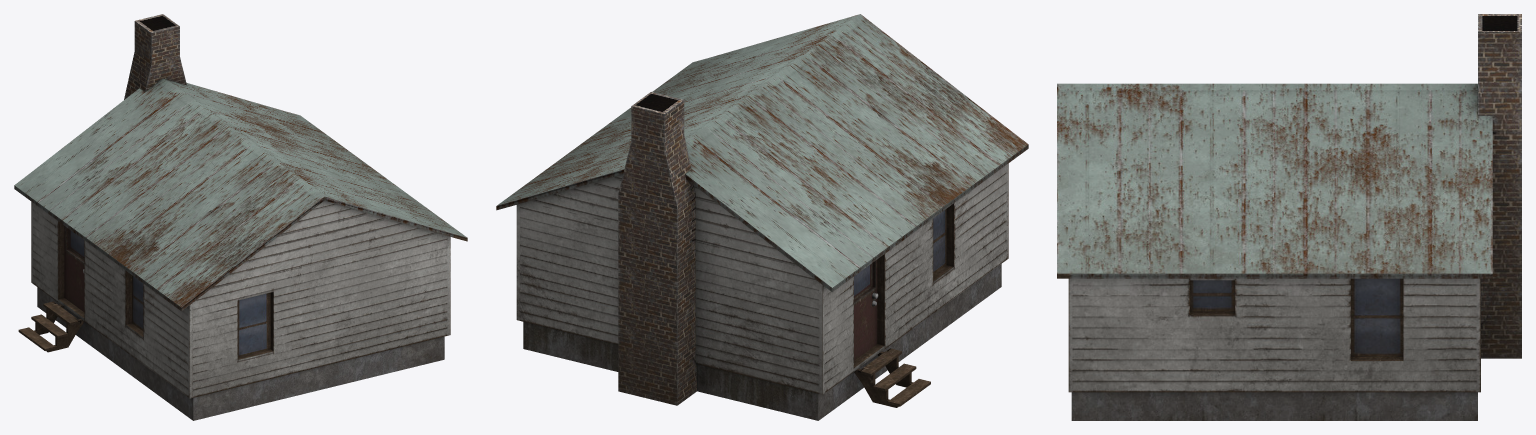
File: brick_house.glb
3 views of the same model, side by side, from view 1: azimuth 30°, elevation 25°; view 2: azimuth 150°, elevation 25°; view 3: azimuth 270°, elevation 25° (orthographic). The views are drawn at different scales.
Visible parts, largest first — view 1: Object001_unknown_0; view 2: Object001_unknown_0; view 3: Object001_unknown_0.
Boxes of the visible parts, <box> form: Object001_unknown_0: <box>14,14,467,420</box>; Object001_unknown_0: <box>496,14,1028,420</box>; Object001_unknown_0: <box>1057,14,1521,420</box>.
Bounding box in the file's own units: 955 × 717 × 944.
1 material, 1 textured.
